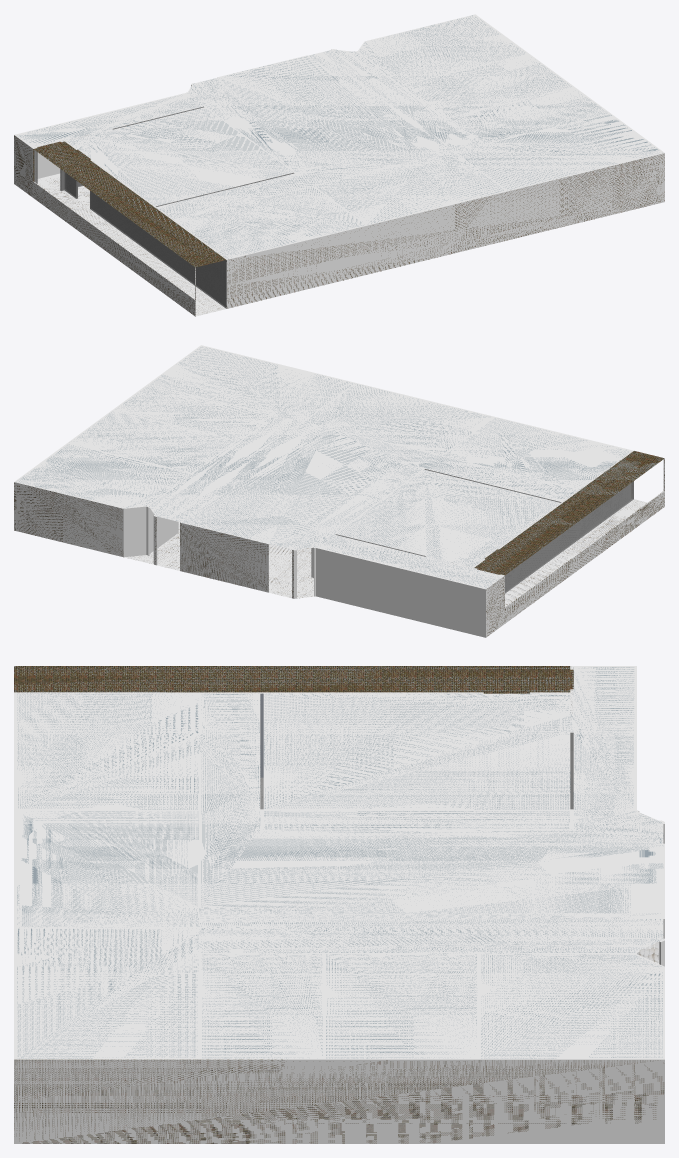
The model's file is pianta.obj.
3 views of the same model, one above another, from view 1: azimuth 30°, elevation 25°; view 2: azimuth 150°, elevation 25°; view 3: azimuth 270°, elevation 25° (orthographic). The views are drawn at different scales.
Parts seen in each view (by area): view 1: Mesh1 Model; view 2: Mesh1 Model; view 3: Mesh1 Model.
Part boxes in pixels (box(x1,y1,x2,y2)): Mesh1 Model: box(14, 14, 664, 316); Mesh1 Model: box(14, 345, 664, 637); Mesh1 Model: box(14, 666, 664, 1143).
Bounding box in the file's own units: 30.05 × 3 × 21.
Materials: 7 (2 with a texture image).
